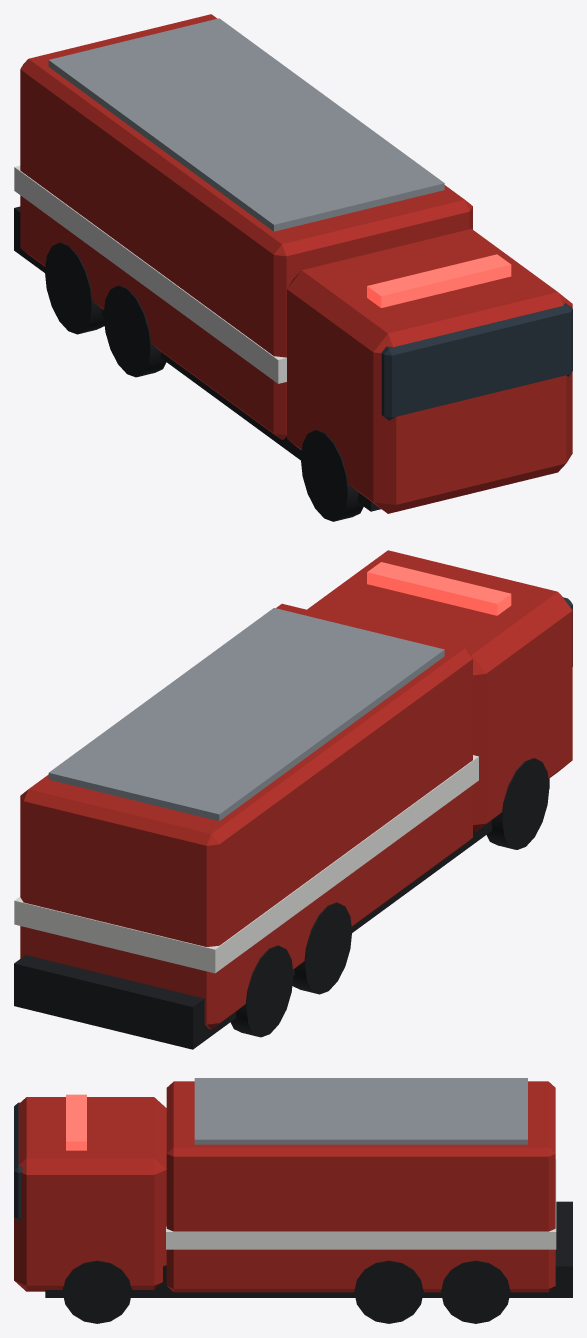
File: response-vehicle.glb
The picture shows the model from 3 angles, top to bottom: view 1: azimuth 30°, elevation 25°; view 2: azimuth 150°, elevation 25°; view 3: azimuth 270°, elevation 25°; orthographic projection. The views are drawn at different scales.
Parts seen in each view (by area): view 1: response_vehicle__vehicle_red, response_vehicle__steel, response_vehicle__glass, response_vehicle__tyre, response_vehicle__vehicle_white, response_vehicle__lightbar; view 2: response_vehicle__vehicle_red, response_vehicle__steel, response_vehicle__tyre, response_vehicle__vehicle_white, response_vehicle__lightbar; view 3: response_vehicle__vehicle_red, response_vehicle__steel, response_vehicle__tyre, response_vehicle__vehicle_white, response_vehicle__lightbar, response_vehicle__glass.
Part boxes in pixels (x1,y1,x2,y2): response_vehicle__vehicle_red: (20, 14, 572, 513); response_vehicle__steel: (48, 18, 444, 231); response_vehicle__glass: (381, 303, 572, 420); response_vehicle__tyre: (14, 206, 380, 521); response_vehicle__vehicle_white: (14, 165, 286, 383); response_vehicle__lightbar: (367, 254, 511, 307); response_vehicle__vehicle_red: (20, 550, 572, 1029); response_vehicle__steel: (48, 608, 444, 821); response_vehicle__tyre: (14, 758, 549, 1049); response_vehicle__vehicle_white: (14, 755, 478, 973); response_vehicle__lightbar: (367, 562, 511, 615); response_vehicle__vehicle_red: (14, 1081, 555, 1292); response_vehicle__steel: (194, 1078, 527, 1144); response_vehicle__tyre: (45, 1201, 572, 1323); response_vehicle__vehicle_white: (166, 1159, 556, 1249); response_vehicle__lightbar: (66, 1094, 86, 1150); response_vehicle__glass: (14, 1102, 22, 1220).
Bounding box in the file's own units: 2.48 × 2.84 × 8.05.
